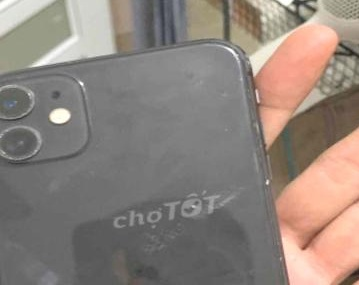scratch: (109, 168, 265, 285), (198, 28, 285, 174), (0, 72, 72, 186), (0, 230, 80, 285)
